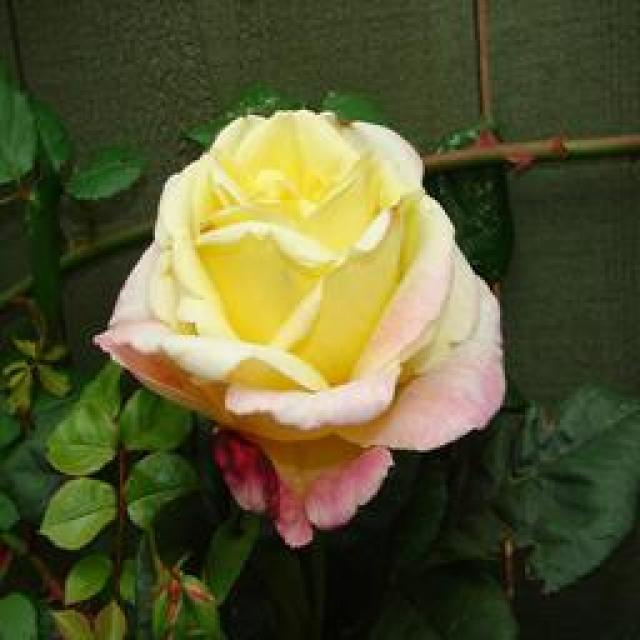rose: (94, 79, 531, 467)
